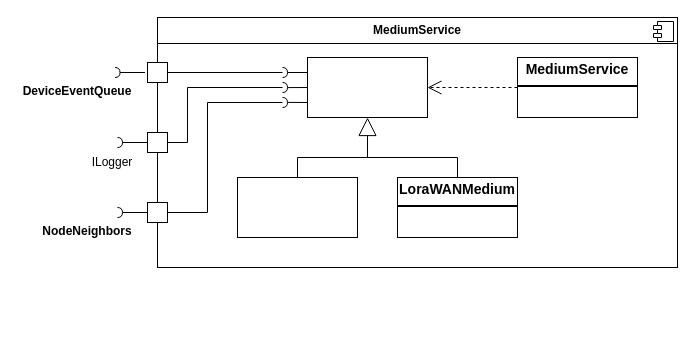
The diagram is 695 pixels wide and 355 high, and some of its shapes have lost their labels. The shapes that lost their labels are listed below. From the top down, each one's box as (x1, y1, x2, y2) in pixels, then its label:
(306, 56, 428, 118): BaseMedium
(236, 176, 358, 238): LoraD2DMedium
